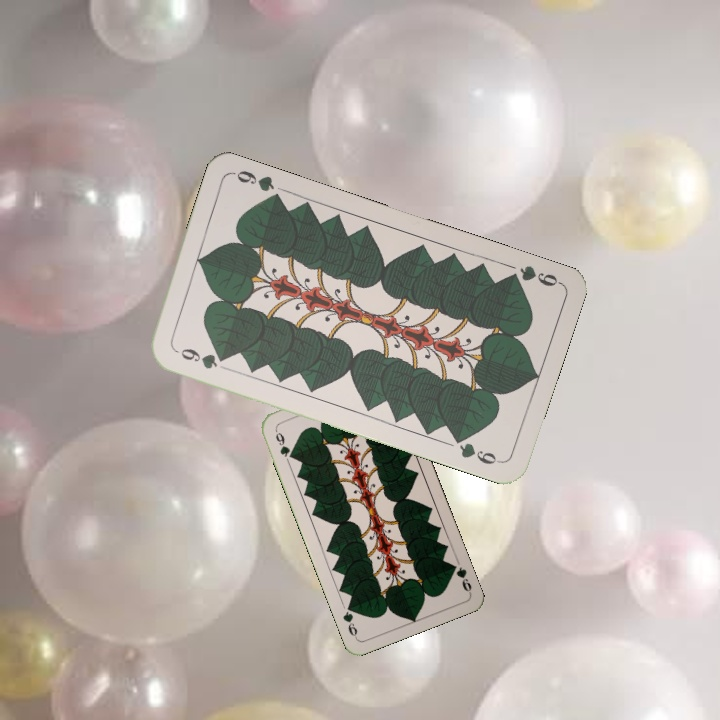G9: (502, 261, 563, 289), (171, 344, 229, 372), (446, 560, 474, 596), (271, 425, 296, 461)
